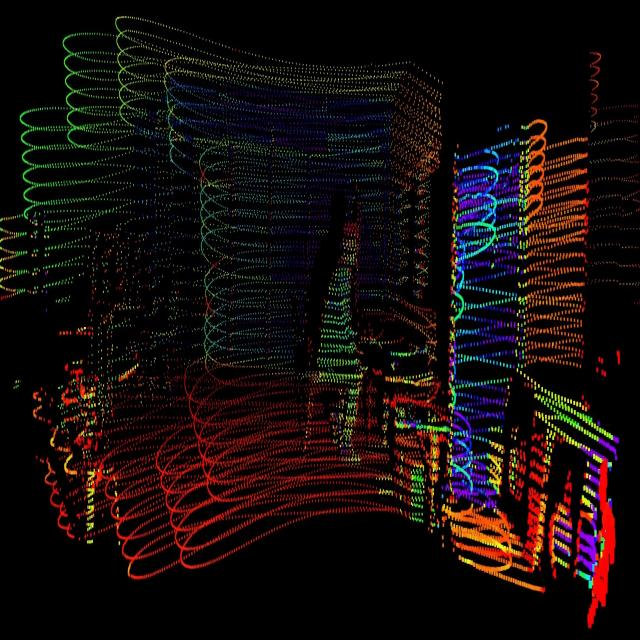human: (314, 216, 368, 467)
